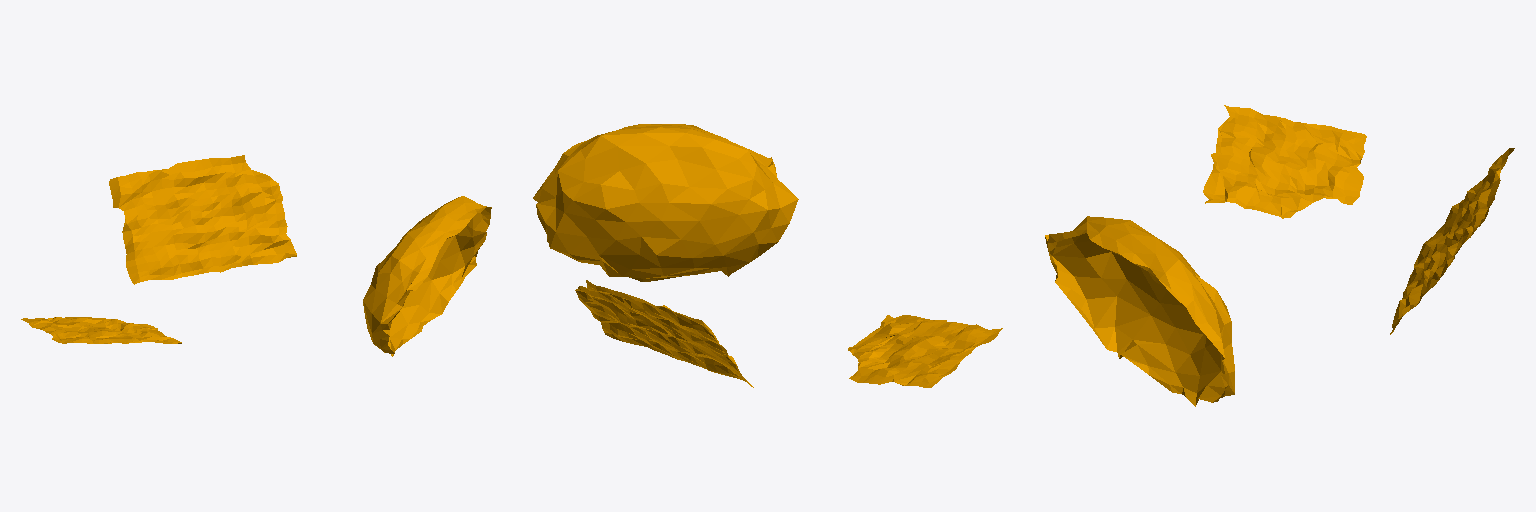
robot.urdf — obstacle:
<?xml version="1.0"?>
<robot name="obstacle">
  <link name="base_link">
    <inertial>
      <origin xyz="0 0 0" /> 
      <mass value="1.0" />
      <inertia  ixx="1.0" ixy="0.0"  ixz="0.0"  iyy="1.0"  iyz="0.0"  izz="1.0" />
    </inertial>
    <visual>
      <origin xyz="0 0 0"/>
      <geometry>
        <mesh filename="package://hpp-rbprm-corba/meshes/parkour_theFloorIsLava.stl"/>
      </geometry>
    </visual>
    <collision>
      <origin xyz="0 0 0"/>
      <geometry>
        <mesh filename="package://hpp-rbprm-corba/meshes/parkour_theFloorIsLava.stl"/>
      </geometry>
    </collision>
  </link>
</robot>

--- Render facts (derived) ---
The picture shows the robot from 3 angles, left to right: view 1: azimuth 30°, elevation 25°; view 2: azimuth 150°, elevation 25°; view 3: azimuth 270°, elevation 25°; orthographic projection.
Robot: obstacle — 1 links, 0 joints (none); root link base_link; default pose: every joint at zero.
Visible links, largest first — view 1: base_link; view 2: base_link; view 3: base_link.
Boxes of the visible links, x1=… form: base_link: x1=21, y1=155, x2=491, y2=356; base_link: x1=533, y1=124, x2=1002, y2=387; base_link: x1=1045, y1=105, x2=1514, y2=406.
Bounding box of the posed robot: 8.74 × 6.4 × 2.47 m (x, y, z).
1 mesh visuals loaded from 1 distinct referenced files (1 binary STL).